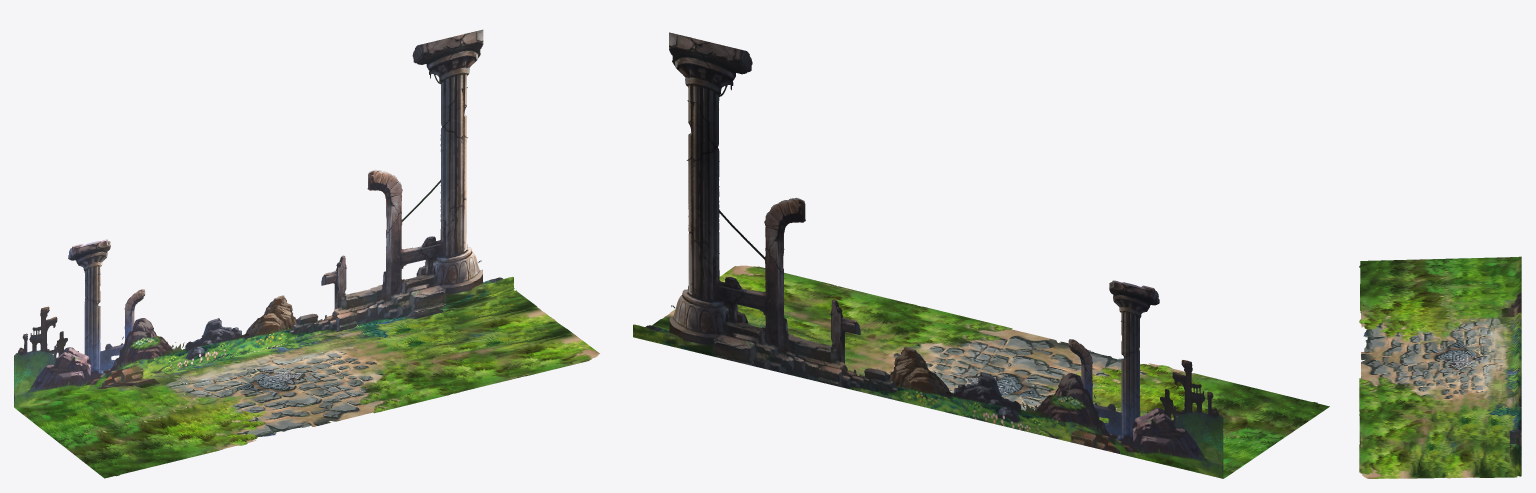
The model's file is ground.FBX.
3 views of the same model, side by side, from view 1: azimuth 30°, elevation 25°; view 2: azimuth 150°, elevation 25°; view 3: azimuth 270°, elevation 25° (orthographic). The views are drawn at different scales.
Visible parts, largest first — view 1: ground; view 2: ground; view 3: ground.
Part boxes in pixels (bbox=[...]): ground: bbox=[14, 29, 599, 478]; ground: bbox=[633, 32, 1329, 478]; ground: bbox=[1359, 256, 1521, 478].
Size of the model in its own units: 777 by 411 by 245.
